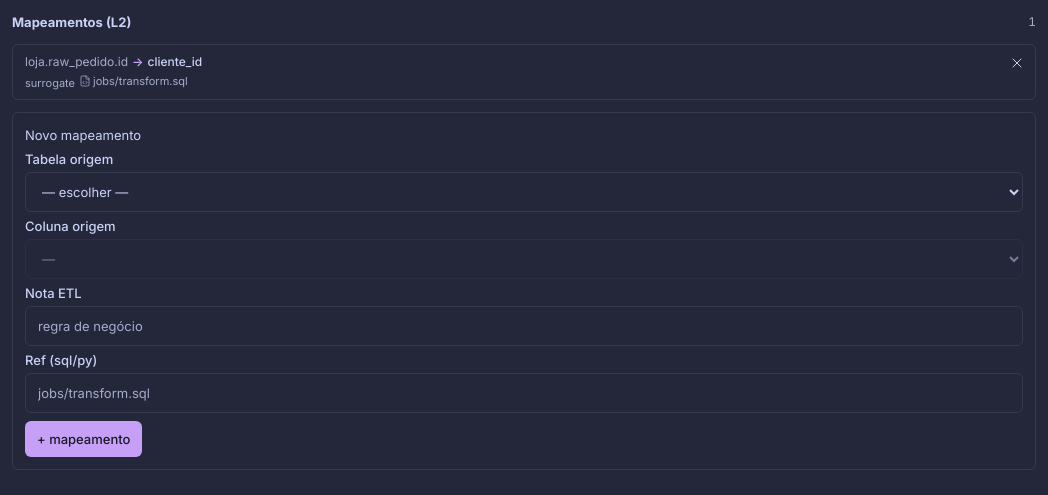
Test: ColumnMappings › + resets the form to create a new mapping
Click the button "loja.raw_pedido.id→cliente_id surrogate jobs/transform.sql" at [70, 62], box [17,49,999,95]
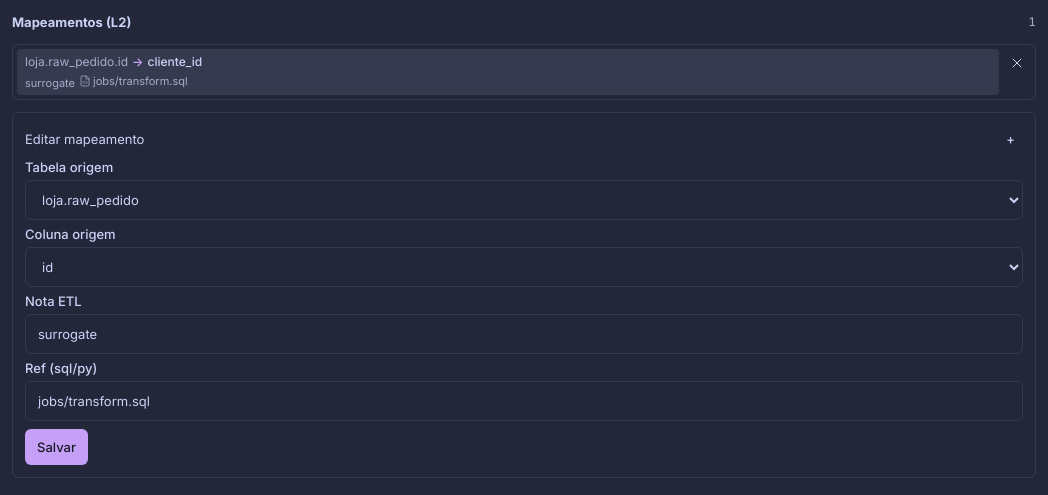
Click the button "+" at [1011, 139], box [998,125,1023,153]
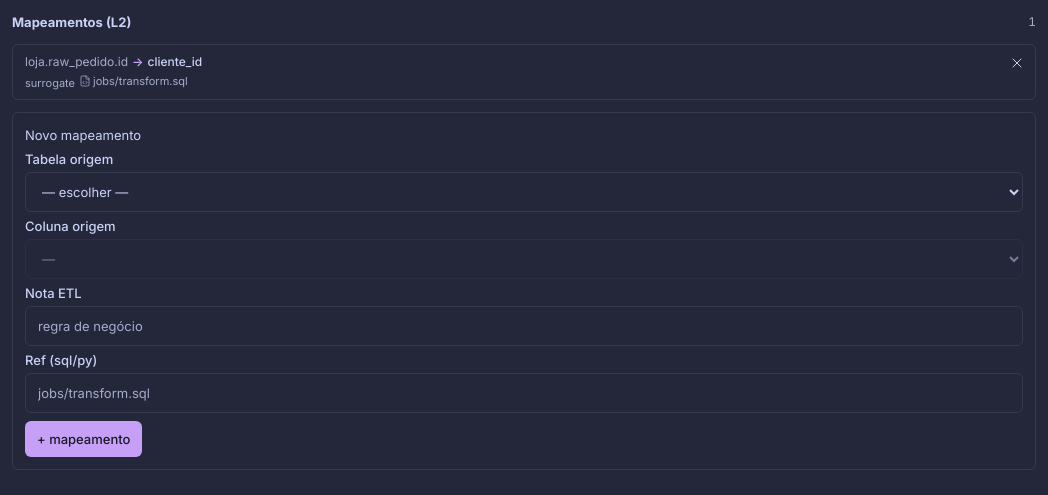
Expected: the dropdown labelled "Tabela origem" shows "— escolher —", [25,172,1023,212]
Expected: the field labelled "Nota ETL" is empty, [25,306,1023,346]
Expected: the button "+ mapeamento" is shown, [25,421,142,457]
